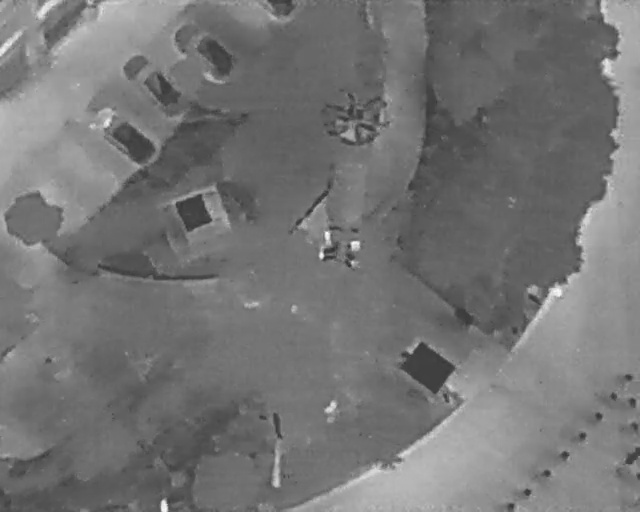Car: (166, 11, 245, 89), (83, 98, 162, 172), (115, 46, 189, 119), (259, 0, 299, 20)
